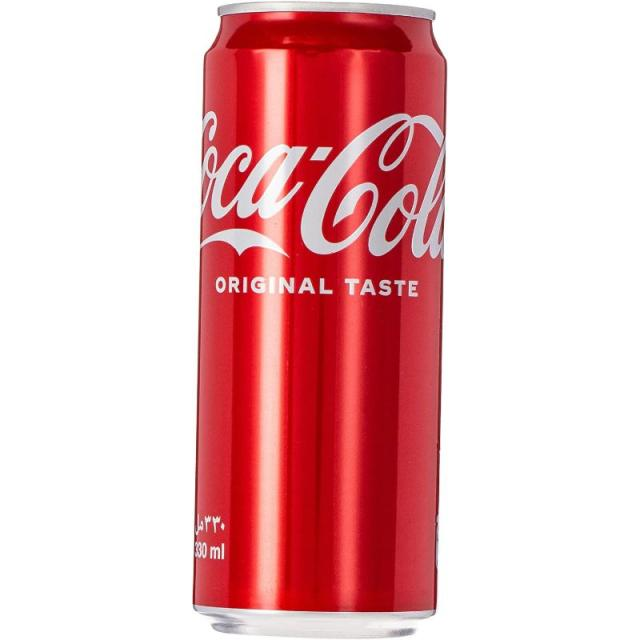cocacola: (194, 0, 455, 640)
